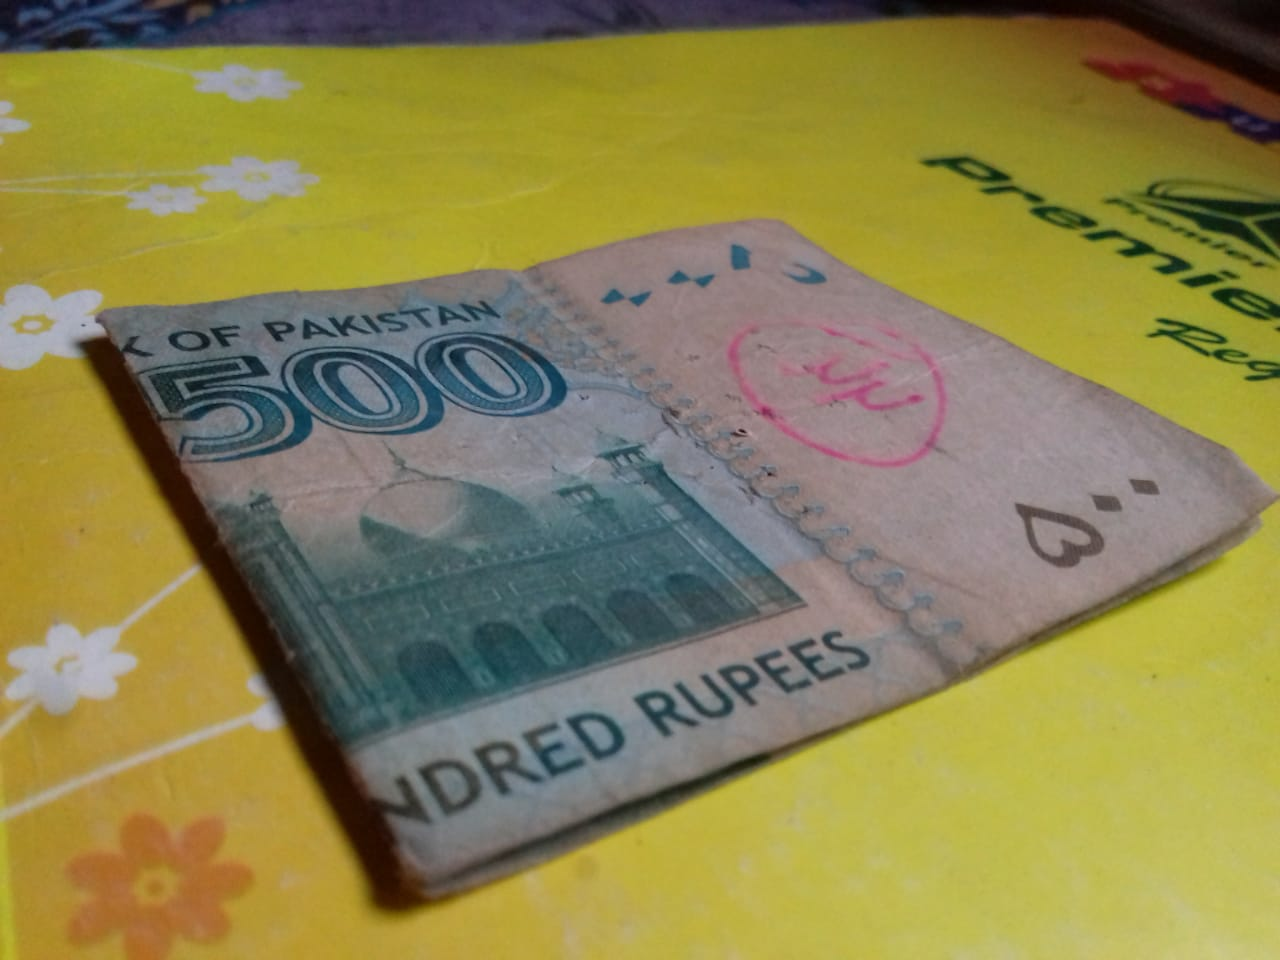500 rupee: (95, 210, 1228, 856)
